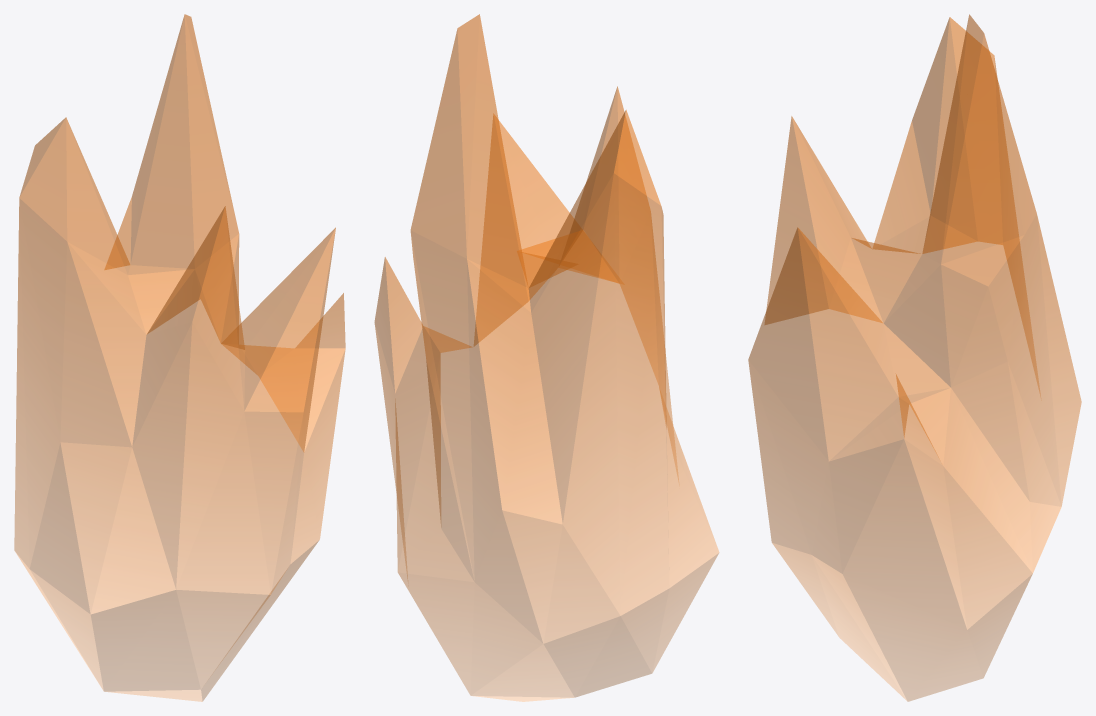
The model's file is fire.glb.
The picture shows the model from 3 angles, left to right: view 1: azimuth 30°, elevation 25°; view 2: azimuth 150°, elevation 25°; view 3: azimuth 270°, elevation 25°; orthographic projection. The views are drawn at different scales.
Parts seen in each view (by area): view 1: fire; view 2: fire; view 3: fire.
Boxes of the visible parts, bbox=[...] form: fire: bbox=[14, 14, 345, 701]; fire: bbox=[374, 14, 719, 701]; fire: bbox=[748, 14, 1081, 701].
Bounding box in the file's own units: 0.5667 × 1.21 × 0.5259.
Materials: 1 (1 with a texture image).
